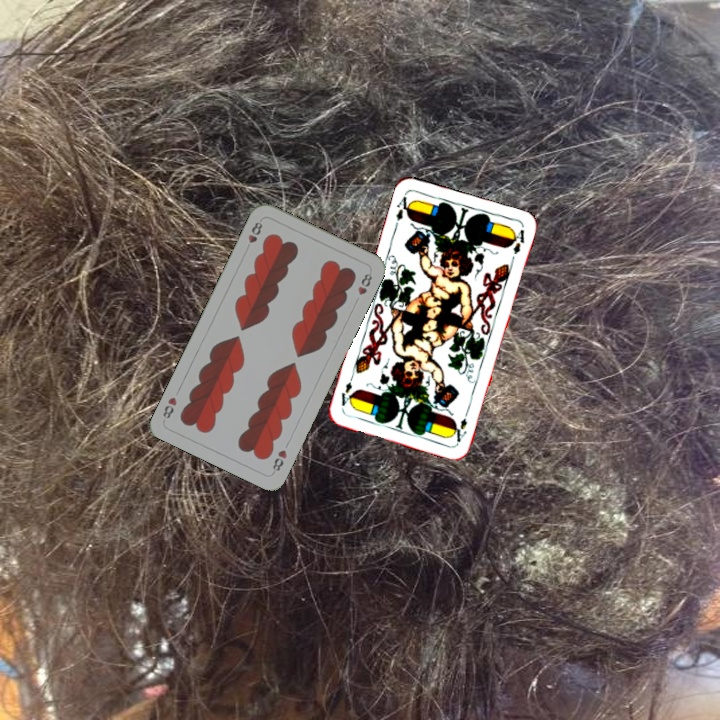EA: (391, 192, 415, 230), (450, 406, 472, 445)
H8: (241, 218, 265, 254), (268, 446, 290, 476)
